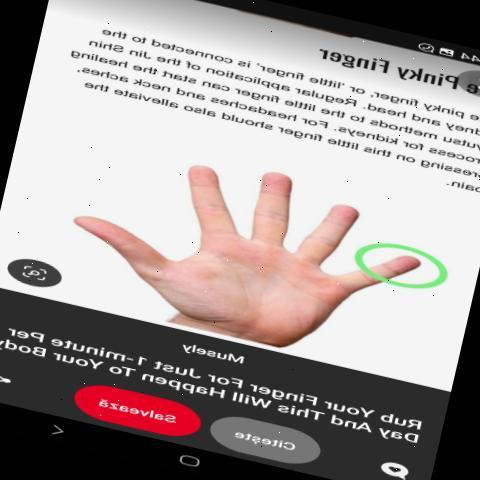Hands: (50, 161, 449, 335)
